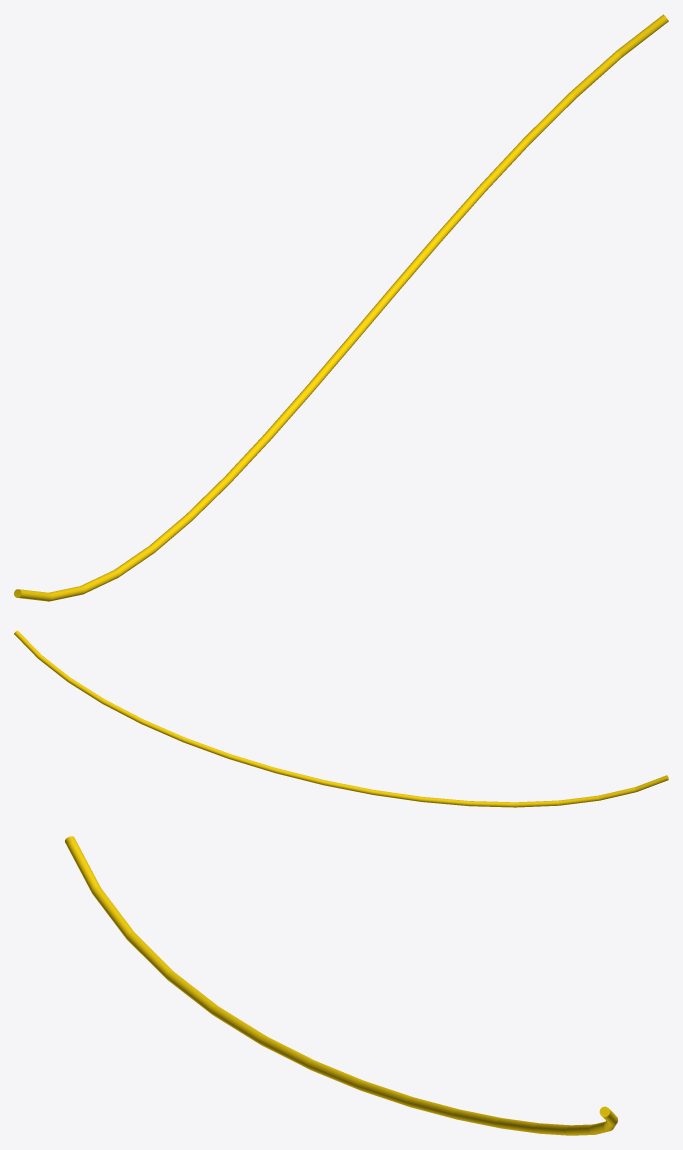
Rendered from Event_421278790_track_55.fbx.
3 renders of one model, top to bottom at view 1: azimuth 30°, elevation 25°; view 2: azimuth 150°, elevation 25°; view 3: azimuth 270°, elevation 25°, orthographic. The views are drawn at different scales.
Visible parts, largest first — view 1: Model; view 2: Model; view 3: Model.
Part boxes in pixels (left/top/right/bottom): Model: left=14, top=14, right=668, bottom=601; Model: left=14, top=630, right=668, bottom=807; Model: left=65, top=836, right=617, bottom=1135.
Bounding box in the file's own units: 4.57 × 1.26 × 2.1.
